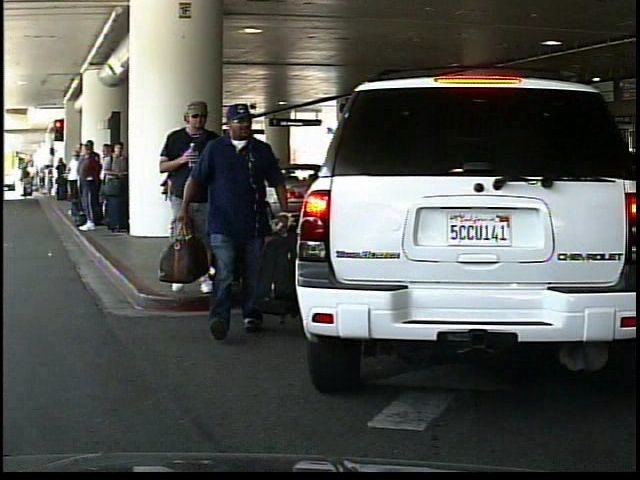person: (190, 98, 298, 344), (161, 97, 228, 292), (193, 135, 238, 252)
